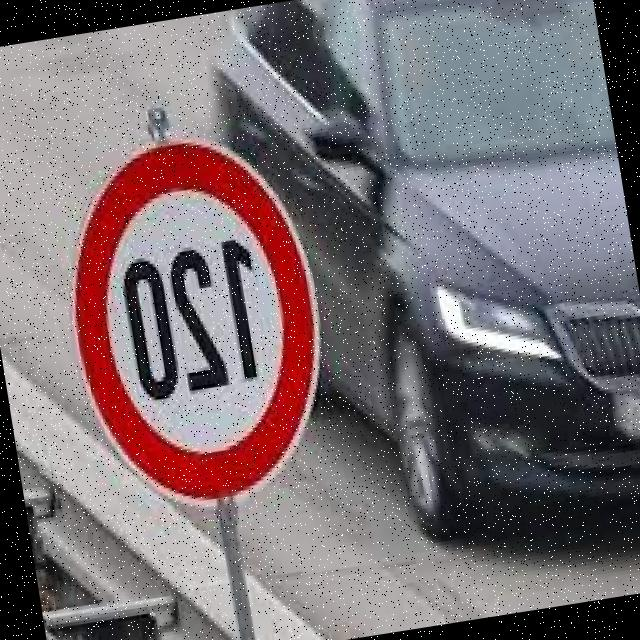speed_limit_120: (36, 118, 350, 520)
